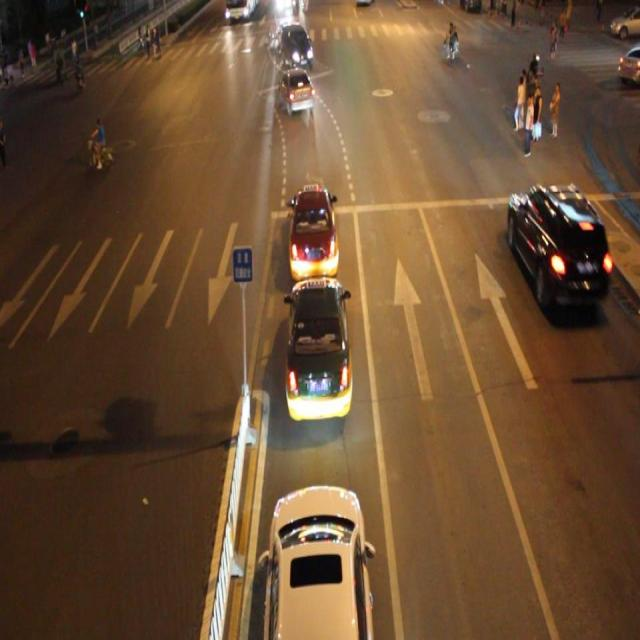car: (259, 479, 375, 640), (508, 184, 612, 310), (282, 274, 354, 422), (285, 182, 343, 280), (278, 67, 314, 113), (280, 23, 313, 68)
